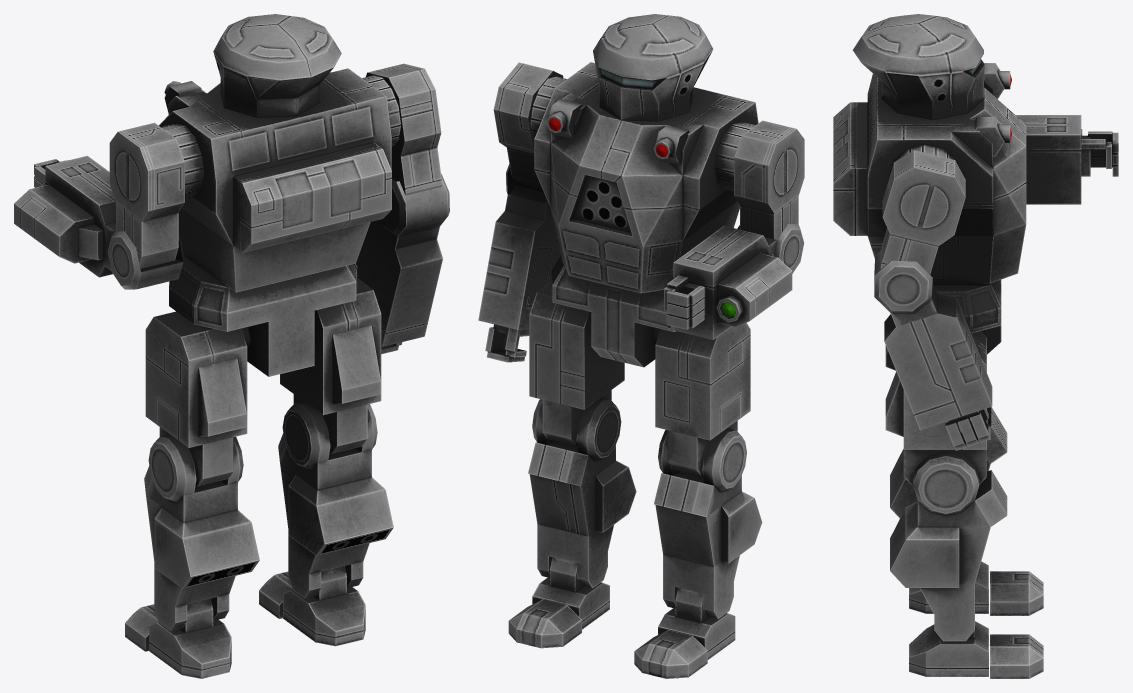
File: Cossack.FBX
3 views of the same model, side by side, from view 1: azimuth 30°, elevation 25°; view 2: azimuth 150°, elevation 25°; view 3: azimuth 270°, elevation 25° (orthographic). The views are drawn at different scales.
Visible parts, largest first — view 1: torso, rlowerleg, llowerleg, lupperleg, pelvis, llowerarm, rupperleg, rlowerarm, lupperarm, rupperarm, lfoot, rfoot (+2 smaller); view 2: torso, llowerleg, rlowerleg, lupperleg, llowerarm, rupperleg, rlowerarm, lupperarm, pelvis, rupperarm, lfoot, lfronttoe (+6 smaller); view 3: torso, rlowerleg, rlowerarm, rupperarm, llowerarm, rupperleg, rfoot, pelvis, rfronttoe, lfronttoe, llowerleg, rhand (+4 smaller).
Part boxes in pixels (x1,y1,x2,y2): torso: (159, 14, 400, 292); rlowerleg: (278, 401, 393, 598); llowerleg: (144, 434, 259, 631); lupperleg: (145, 311, 247, 486); pelvis: (169, 255, 357, 376); llowerarm: (14, 155, 184, 289); rupperleg: (280, 278, 381, 453); rlowerarm: (356, 174, 449, 346); lupperarm: (109, 122, 184, 268); rupperarm: (366, 63, 442, 195); lfoot: (149, 598, 231, 678); rfoot: (283, 566, 365, 646); torso: (530, 14, 758, 293); llowerleg: (654, 428, 762, 618); rlowerleg: (528, 397, 636, 588); lupperleg: (655, 322, 750, 476); llowerarm: (673, 224, 804, 339); rupperleg: (529, 282, 624, 445); rlowerarm: (478, 164, 560, 329); lupperarm: (734, 120, 804, 239); pelvis: (551, 255, 676, 367); rupperarm: (493, 62, 563, 191); lfoot: (658, 587, 735, 659); lfronttoe: (634, 630, 707, 678); torso: (833, 14, 1026, 283); rlowerleg: (890, 451, 1007, 641); rlowerarm: (874, 251, 992, 430); rupperarm: (880, 150, 965, 274); llowerarm: (1016, 115, 1082, 204); rupperleg: (885, 331, 986, 486); rfoot: (909, 621, 988, 676); pelvis: (891, 279, 1001, 358); rfronttoe: (990, 634, 1043, 678); lfronttoe: (990, 571, 1043, 615); llowerleg: (890, 407, 1007, 518); rhand: (1081, 131, 1118, 176).
Size of the model in its own units: 23.54 by 42.37 by 17.97.
Materials: 1 (1 with a texture image).
